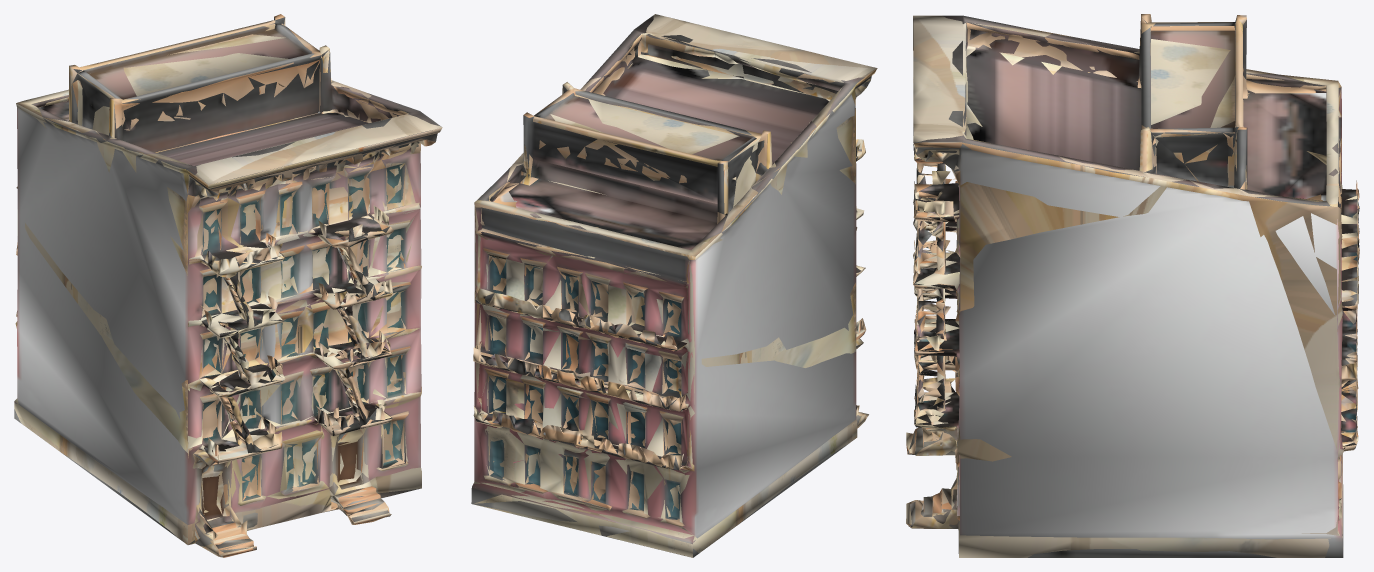
File: bina3.fbx
3 views of the same model, side by side, from view 1: azimuth 30°, elevation 25°; view 2: azimuth 150°, elevation 25°; view 3: azimuth 270°, elevation 25° (orthographic). The views are drawn at different scales.
Parts seen in each view (by area): view 1: Mesh_0.001, Mesh_0; view 2: Mesh_0.001, Mesh_0; view 3: Mesh_0.001, Mesh_0.
Part boxes in pixels (left/top/right/bottom): Mesh_0.001: left=14, top=17, right=441, bottom=552; Mesh_0: left=14, top=14, right=442, bottom=557; Mesh_0.001: left=471, top=15, right=871, bottom=557; Mesh_0: left=473, top=14, right=877, bottom=557; Mesh_0.001: left=907, top=15, right=1359, bottom=557; Mesh_0: left=906, top=14, right=1359, bottom=557.
Bounding box in the file's own units: 123 × 191 × 186.
